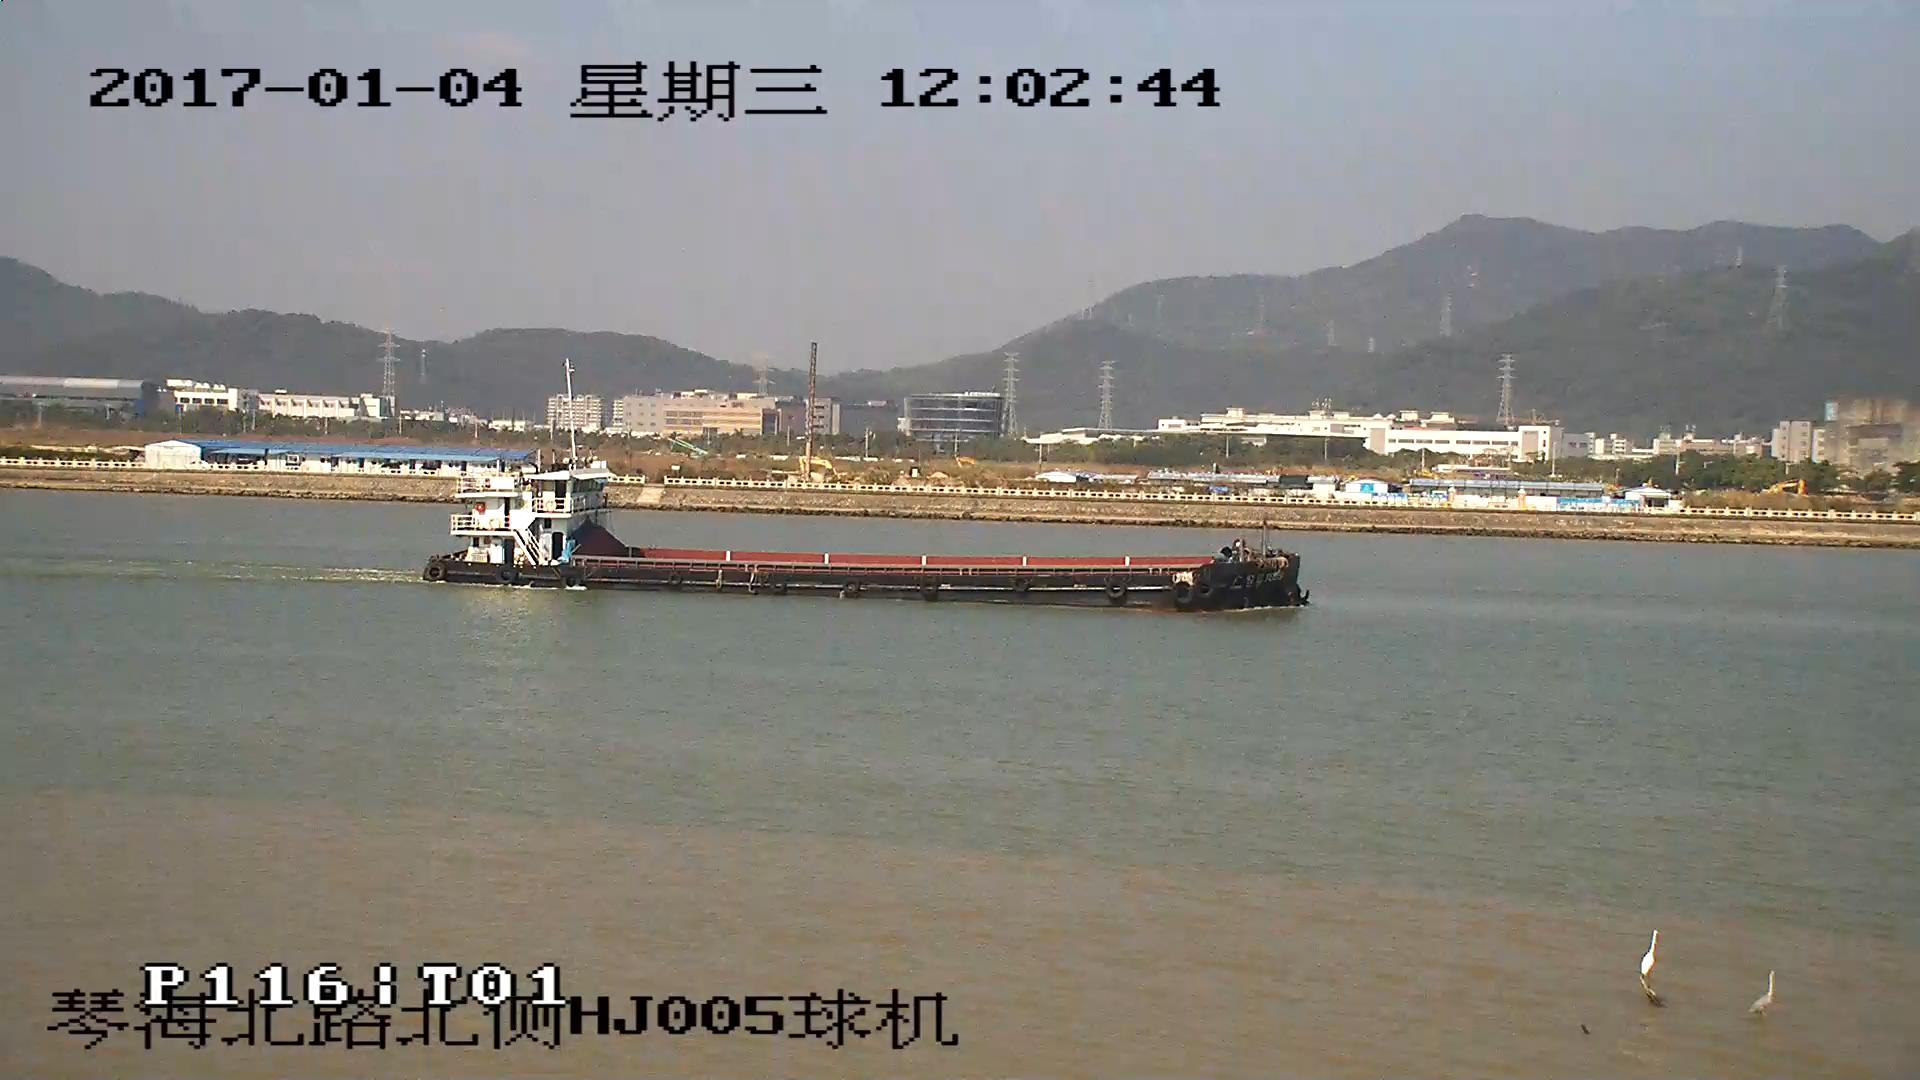general cargo ship: (424, 471, 1306, 612)
